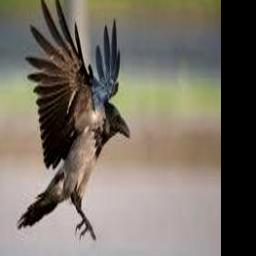Crow: (16, 0, 129, 240)
